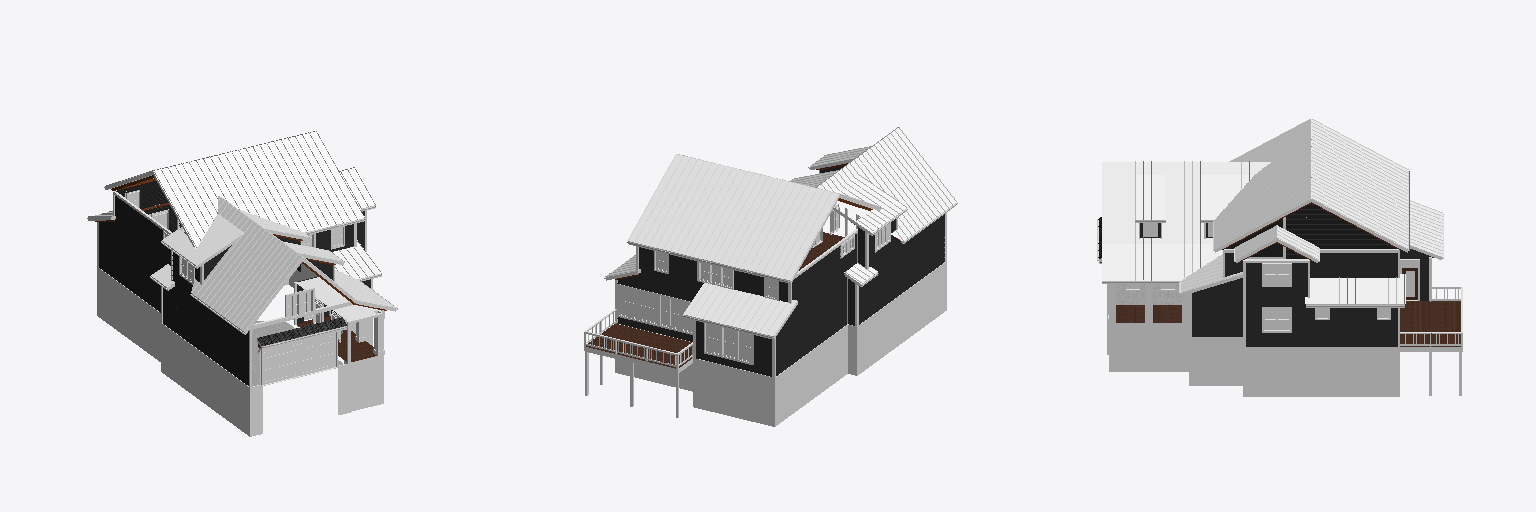
3 views of the same model, side by side, from view 1: azimuth 30°, elevation 25°; view 2: azimuth 150°, elevation 25°; view 3: azimuth 270°, elevation 25° (orthographic).
Size of the model in its own units: 516 by 464 by 806.
31 materials, 7 textured.